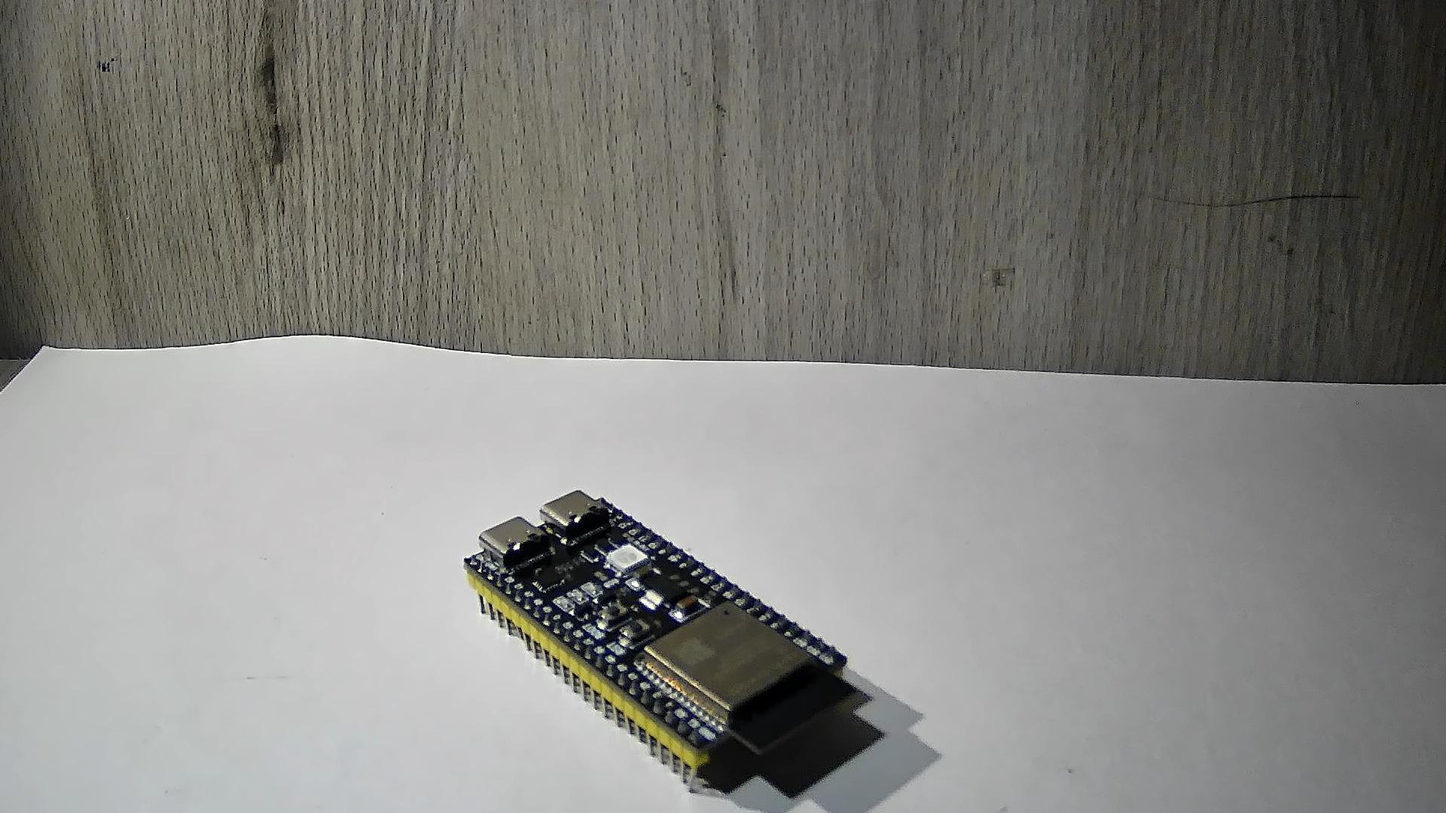ESP32: (435, 427, 902, 813)
